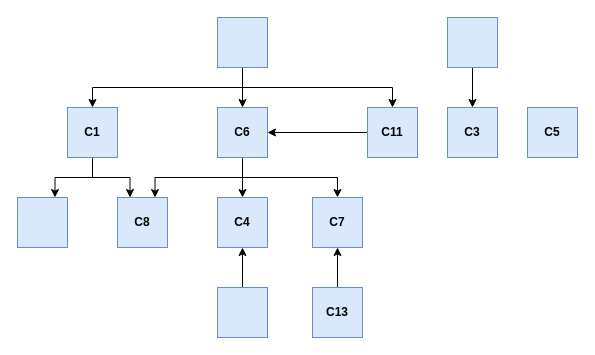
This 595x355 diagram has some shape labels left out. Here are the shapes that lost their labels. From the top down, the box of each, then its label:
(216, 16, 268, 68): C10
(446, 16, 498, 68): C2
(16, 196, 68, 248): C9
(216, 286, 268, 338): C12
